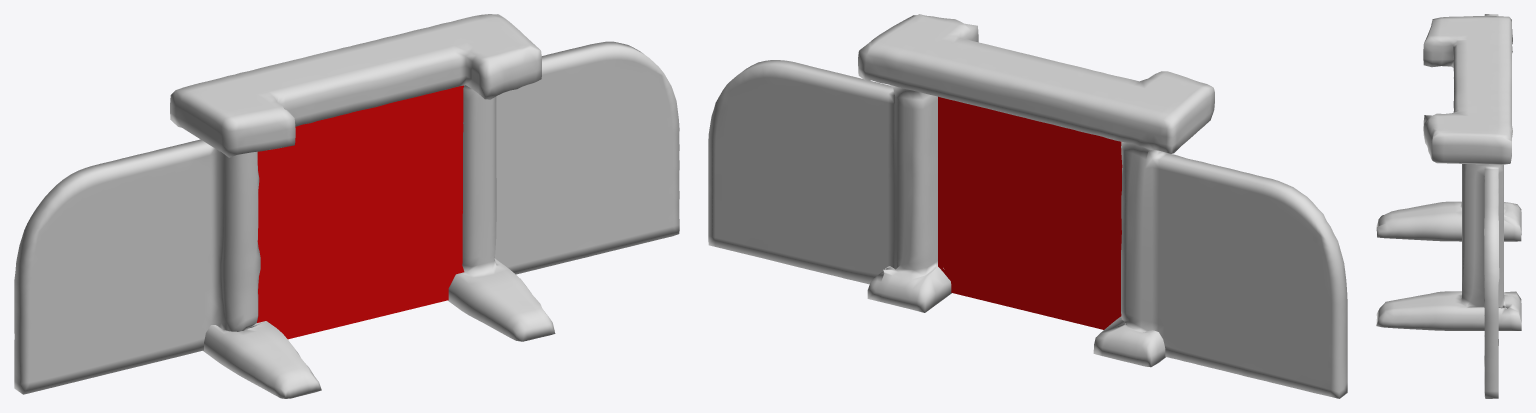
The model's file is doorway.fbx.
3 views of the same model, side by side, from view 1: azimuth 30°, elevation 25°; view 2: azimuth 150°, elevation 25°; view 3: azimuth 270°, elevation 25° (orthographic). The views are drawn at different scales.
Visible parts, largest first — view 1: Cube, Cube.001; view 2: Cube, Cube.001; view 3: Cube.
Part boxes in pixels (bbox=[...]): Cube: bbox=[14, 14, 679, 398]; Cube.001: bbox=[257, 85, 464, 339]; Cube: bbox=[708, 14, 1347, 398]; Cube.001: bbox=[938, 96, 1122, 329]; Cube: bbox=[1376, 14, 1521, 398].
Bounding box in the file's own units: 1784 × 439 × 666.
